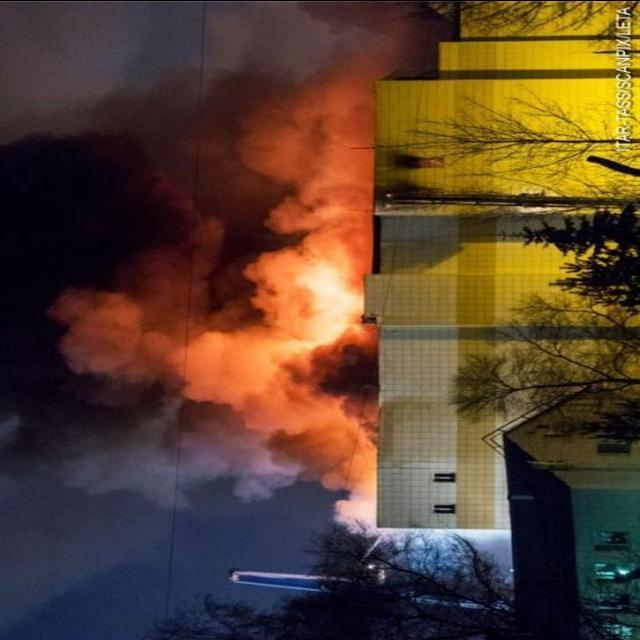Fire: (252, 210, 382, 400)
